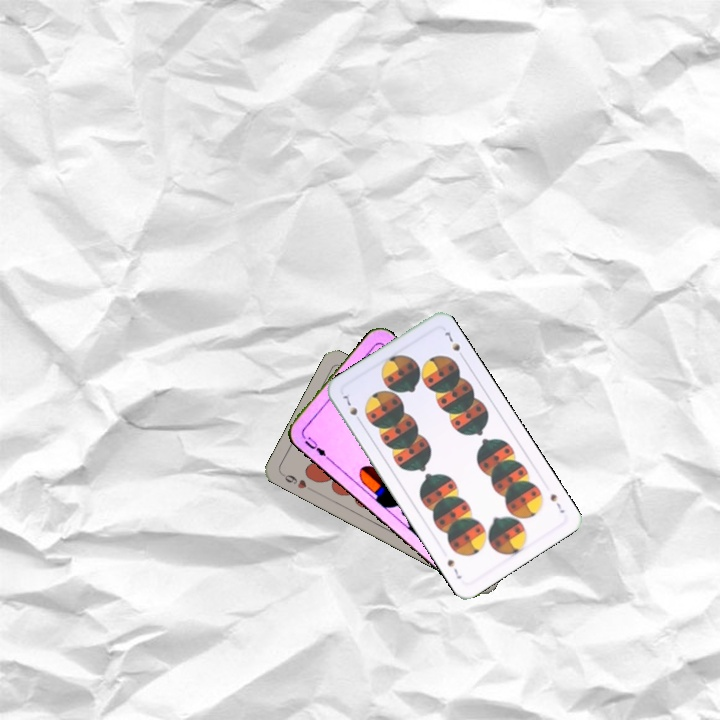EU: (298, 430, 331, 462)
H9: (278, 469, 315, 494)
S7: (339, 389, 364, 426), (546, 490, 567, 516)
